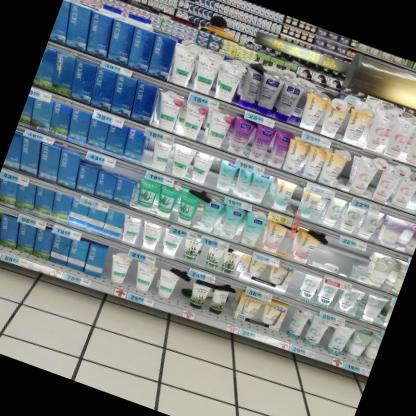empty_space: (313, 233, 360, 271), (200, 155, 229, 190), (170, 269, 197, 305), (120, 254, 146, 290), (97, 246, 122, 281), (283, 269, 308, 298)
